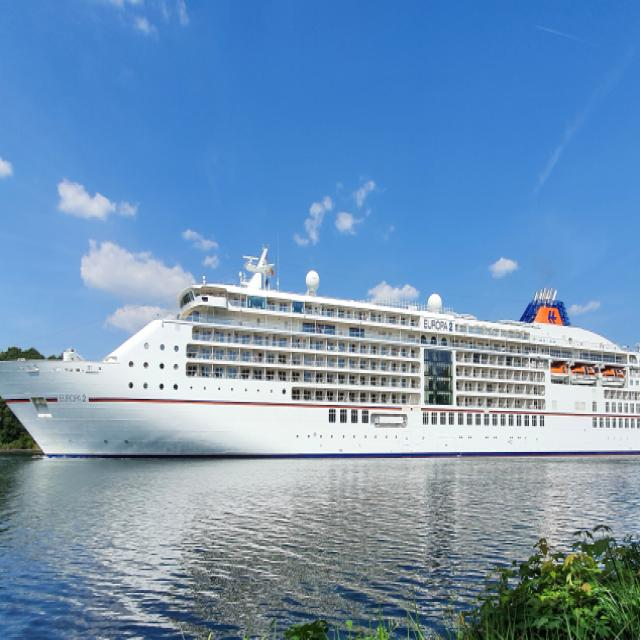cruises: (1, 247, 640, 467)
